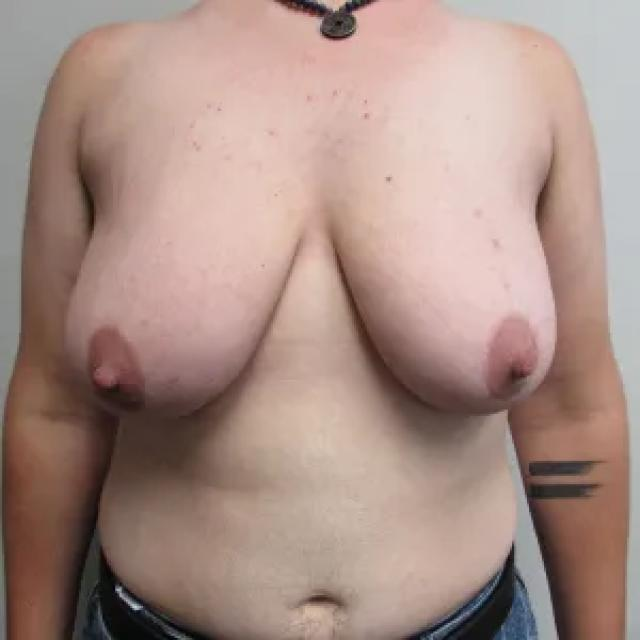Seno ileso: (56, 153, 313, 441), (317, 153, 566, 437)
